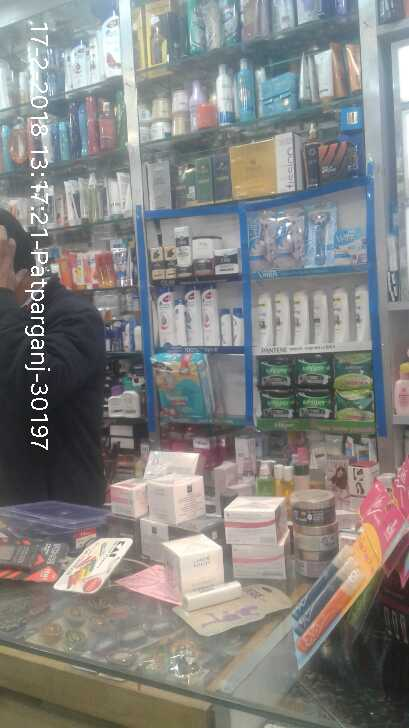venus: (273, 203, 304, 269), (304, 203, 334, 263), (247, 212, 273, 270), (334, 226, 366, 263)
